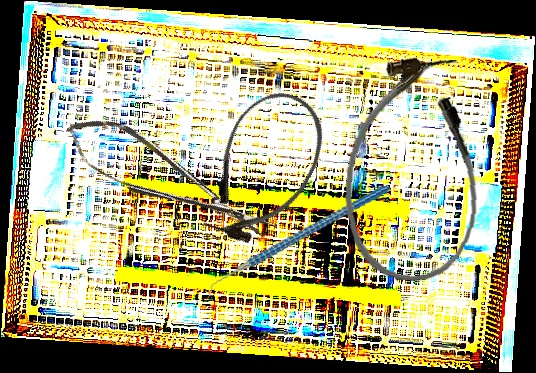Cannula: (339, 53, 488, 285), (185, 75, 342, 260)
Chopper: (189, 184, 404, 302)
Micro Scissor: (56, 100, 277, 260)
